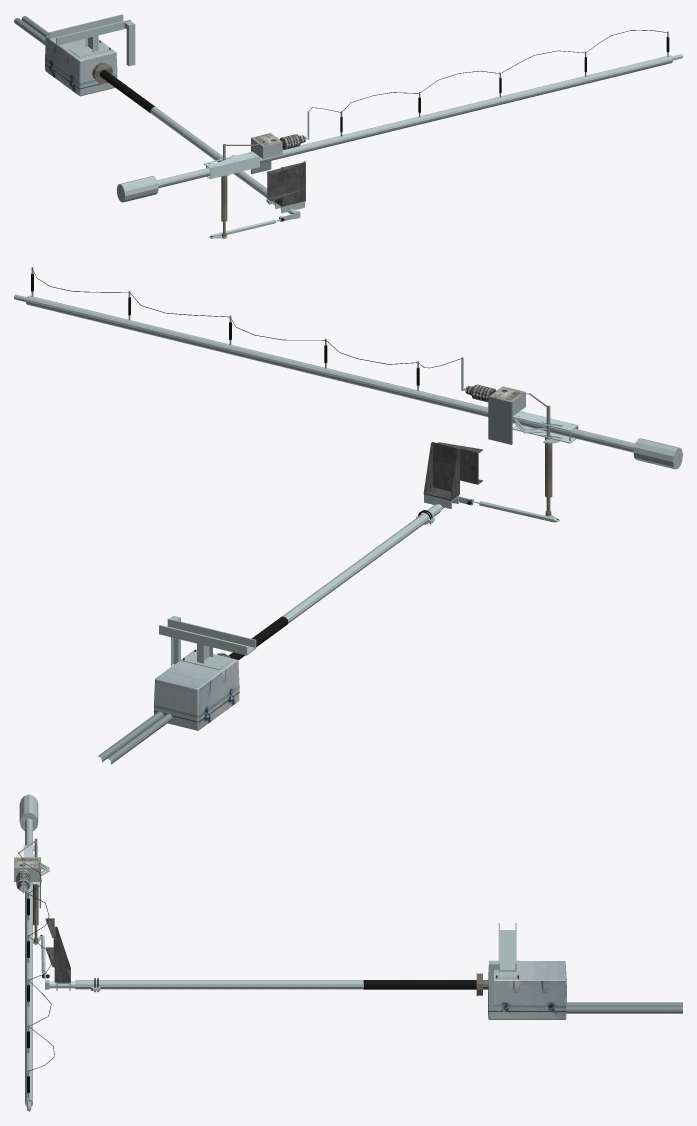
The model's file is glkg-11m32000237461051c-geode.glb.
3 renders of one model, top to bottom at view 1: azimuth 30°, elevation 25°; view 2: azimuth 150°, elevation 25°; view 3: azimuth 270°, elevation 25°, orthographic. The views are drawn at different scales.
Parts seen in each view (by area): view 1: Node; view 2: Node; view 3: Node.
Boxes of the visible parts, x1,y1,x2,y2 form: Node: (14,14,682,238); Node: (14,267,682,764); Node: (14,794,682,1111).
Size of the model in its own units: 5.31 by 1.21 by 4.92.
15 materials, 15 textured.
